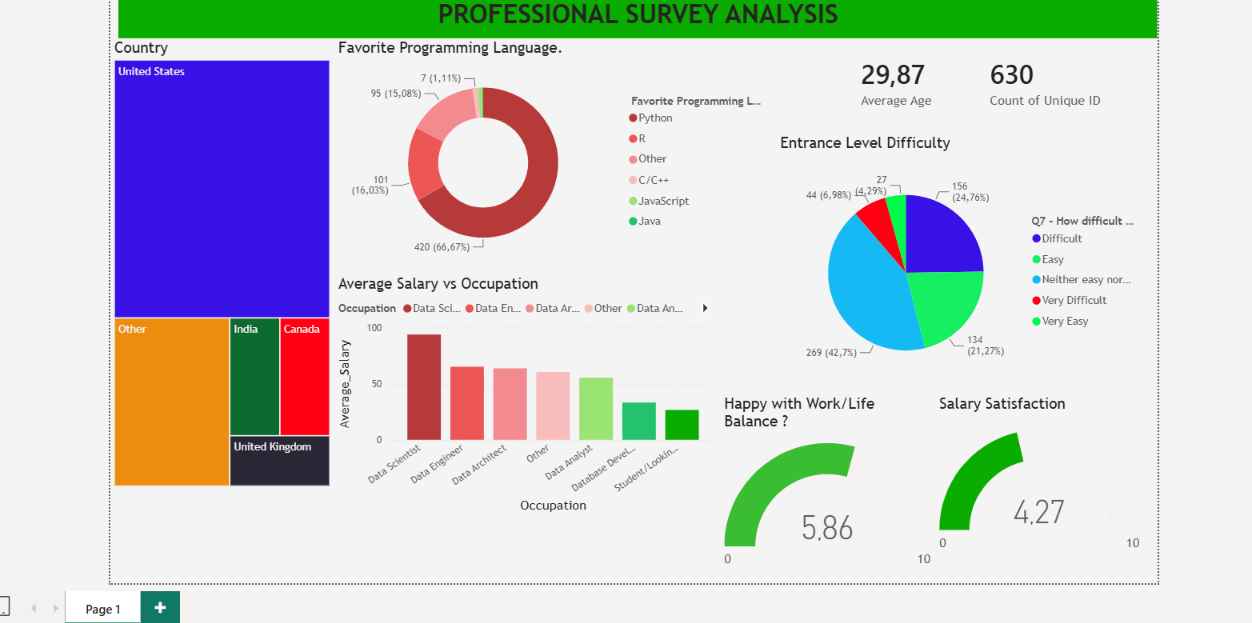

What the dashboard file says about the page in this screenshot:
{"tool":"powerbi","page":{"name":"Page 1","canvas":[1280,720],"ordinal":0},"visuals":[{"type":"textbox","box":[9.6,0,1270.7,53.5],"z":0},{"type":"cardVisual","fields":{"Data":["CountNonNull(Data Professional Survey.Unique ID)"]},"box":[1045.6,53.5,234.6,104.3],"z":1},{"type":"cardVisual","fields":{"Data":["Avg(Data Professional Survey.Q10 - Current Age)"]},"box":[887.8,53.5,183.9,104.3],"z":2},{"type":"columnChart","title":"Average Salary vs Occupation","fields":{"Category":["Data Professional Survey.Q1 - Which Title Best Fits your Current Role?.1"],"Y":["Avg(Data Professional Survey.Average_Salary)"],"Series":["Data Professional Survey.Q1 - Which Title Best Fits your Current Role?.1"]},"box":[273.4,341.8,473,295.6],"z":3},{"type":"donutChart","title":" Favorite Programming Language.","fields":{"Category":["Data Professional Survey.Q5 - Favorite Programming Language.1"],"Y":["CountNonNull(Data Professional Survey.Unique ID)"]},"box":[273.4,53.6,532.1,282.7],"z":4},{"type":"treemap","title":"Country","fields":{"Group":["Data Professional Survey.Q11 - Which Country do you live in?.1"],"Values":["Sum(Data Professional Survey.Average_Salary)"]},"box":[0,53.6,273.4,552.4],"z":5},{"type":"gauge","title":"Happy with Work/Life Balance ?","fields":{"Y":["Avg(Data Professional Survey.Q6 - How Happy are you in your Current Position with the following? (Coworkers))"],"MinValue":["Min(Data Professional Survey.Q6 - How Happy are you in your Current Position with the following? (Coworkers))1"],"MaxValue":["Max(Data Professional Survey.Q6 - How Happy are you in your Current Position with the following? (Coworkers))"]},"box":[746.4,489.6,262.4,230.9],"z":6},{"type":"gauge","title":"Salary Satisfaction ","fields":{"Y":["Avg(Data Professional Survey.Q6 - How Happy are you in your Current Position with the following? (Salary))"],"MinValue":["Min(Data Professional Survey.Q6 - How Happy are you in your Current Position with the following? (Salary))"],"MaxValue":["Max(Data Professional Survey.Q6 - How Happy are you in your Current Position with the following? (Salary))"]},"box":[1008.8,489.6,255,216.2],"z":7},{"type":"pieChart","title":"Average Salary by Gender","fields":{"Y":["CountNonNull(Data Professional Survey.Q7 - How difficult was it for you to break into Data?)"],"Series":["Data Professional Survey.Q7 - How difficult was it for you to break into Data?"]},"box":[814.8,170,449,319.6],"z":8}]}

Visuals, with their boxes on the page's 1280x720 design canvas (x1, y1, x2, y2). These are canvas units, not pixel positions in the 1252x623 screenshot, which may show the page scaled, cropped or inside an application window:
textbox: select_region(10, 0, 1280, 54)
cardVisual - CountNonNull(Data Professional Survey.Unique ID): select_region(1046, 54, 1280, 158)
cardVisual - Avg(Data Professional Survey.Q10 - Current Age): select_region(888, 54, 1072, 158)
"Average Salary vs Occupation" columnChart: select_region(273, 342, 746, 637)
" Favorite Programming Language." donutChart: select_region(273, 54, 806, 336)
"Country" treemap: select_region(0, 54, 273, 606)
"Happy with Work/Life Balance ?" gauge: select_region(746, 490, 1009, 720)
"Salary Satisfaction " gauge: select_region(1009, 490, 1264, 706)
"Average Salary by Gender" pieChart: select_region(815, 170, 1264, 490)
